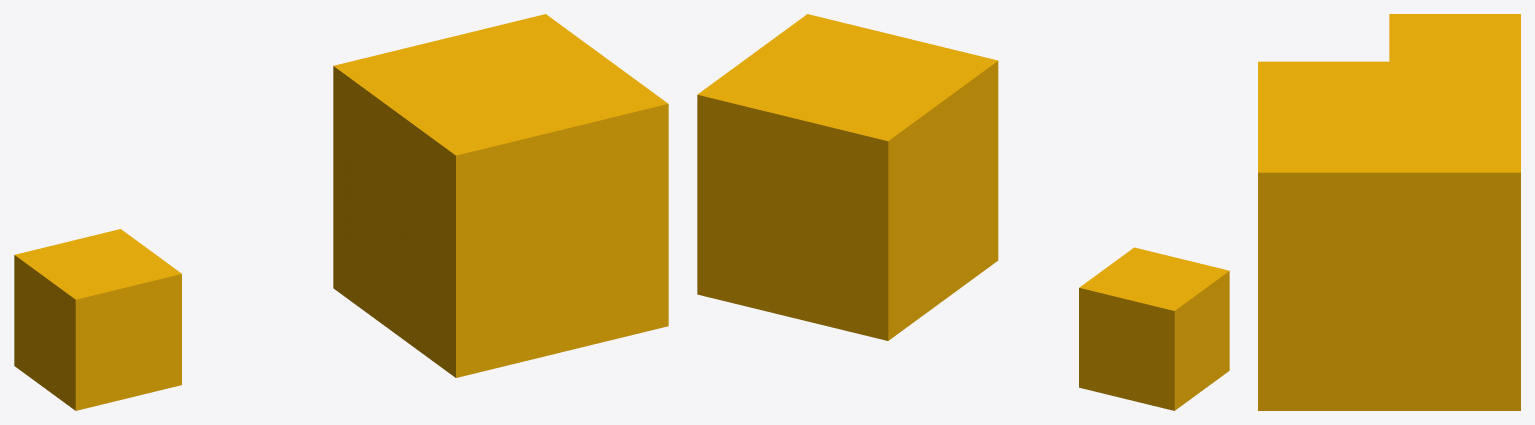
File: instances.gltf
The picture shows the model from 3 angles, left to right: view 1: azimuth 30°, elevation 25°; view 2: azimuth 150°, elevation 25°; view 3: azimuth 270°, elevation 25°; orthographic projection. The views are drawn at different scales.
Parts seen in each view (by area): view 1: cube-right, cube-left; view 2: cube-right, cube-left; view 3: cube-right, cube-left.
Part boxes in pixels (<box>): cube-right: <box>333,14,668,377</box>; cube-left: <box>14,229,181,410</box>; cube-right: <box>697,14,998,340</box>; cube-left: <box>1079,247,1229,410</box>; cube-right: <box>1258,61,1520,410</box>; cube-left: <box>1389,14,1520,61</box>.
Size of the model in its own units: 5 by 2 by 2.
